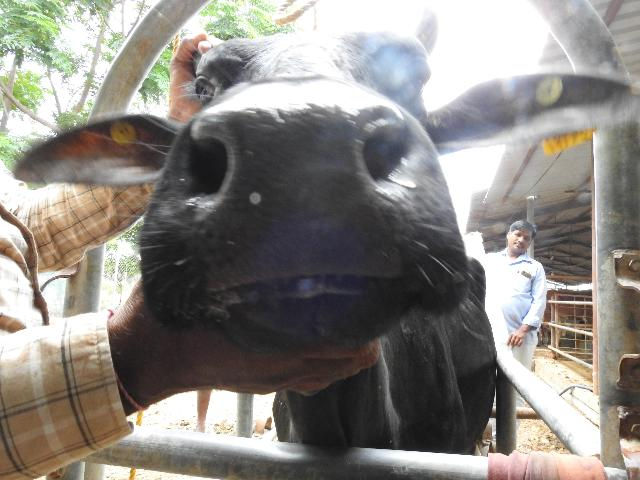Muzzle: (211, 100, 393, 270)
